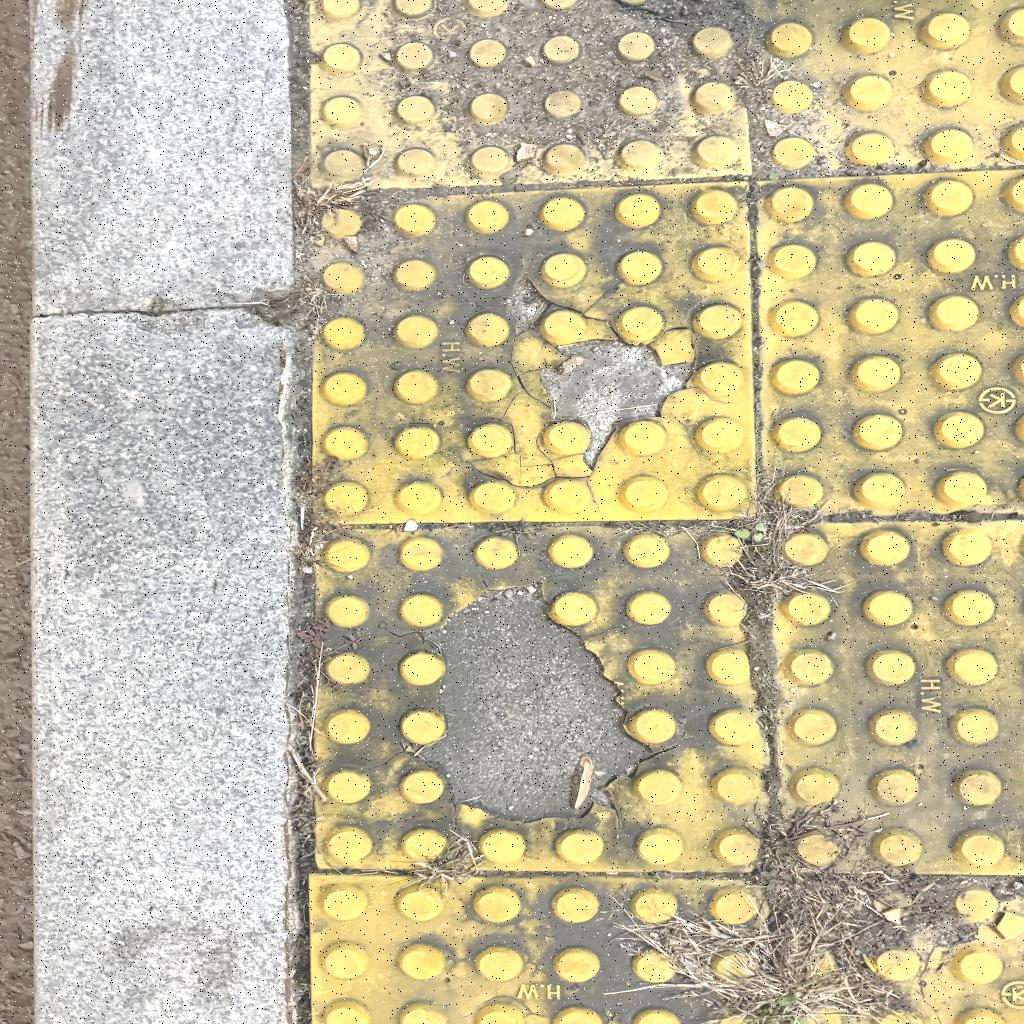Stop block broken: (316, 532, 760, 870), (316, 198, 753, 518)
